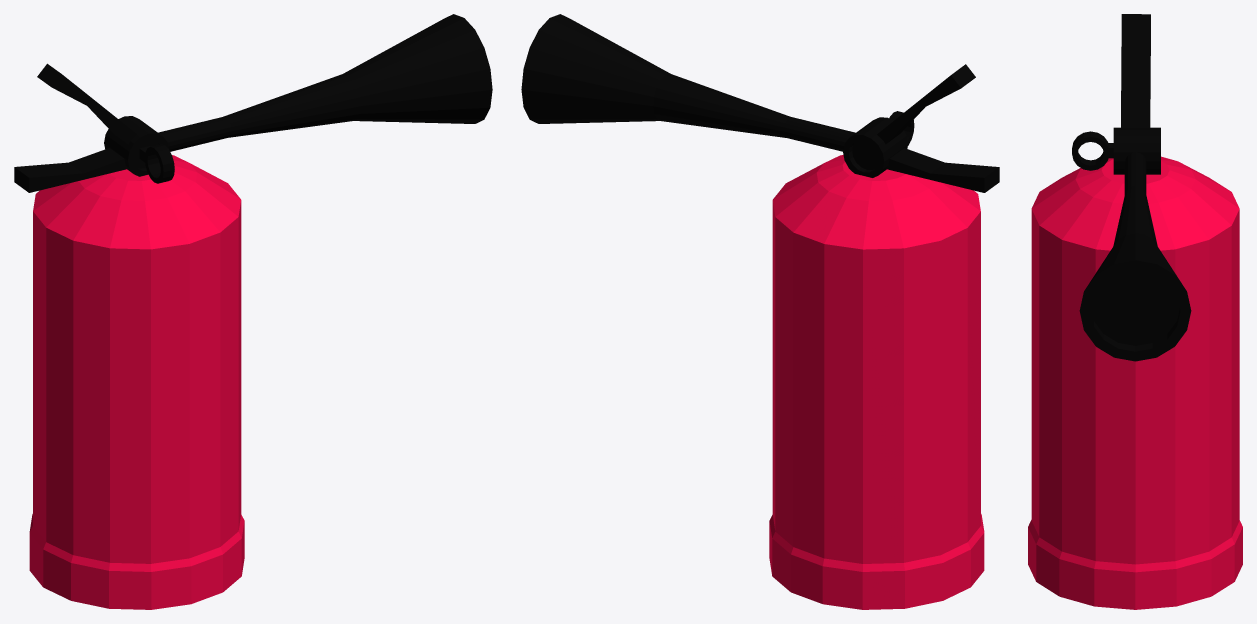
Rendered from APAR.fbx.
3 renders of one model, left to right at view 1: azimuth 30°, elevation 25°; view 2: azimuth 150°, elevation 25°; view 3: azimuth 270°, elevation 25°, orthographic.
Visible parts, largest first — view 1: Main Body, Sprayer, Handle Bot, Ball, Handle Top, Nozel, Key; view 2: Main Body, Sprayer, Handle Bot, Ball, Handle Top, Nozel; view 3: Main Body, Sprayer, Handle Top, Ball, Key, Nozel.
Part boxes in pixels (x1=…): Main Body: x1=29, y1=155, x2=244, y2=609; Sprayer: x1=223, y1=14, x2=492, y2=137; Handle Bot: x1=14, y1=148, x2=127, y2=192; Ball: x1=104, y1=116, x2=168, y2=176; Handle Top: x1=37, y1=63, x2=136, y2=144; Nozel: x1=158, y1=117, x2=231, y2=151; Key: x1=139, y1=144, x2=174, y2=183; Main Body: x1=769, y1=155, x2=984, y2=609; Sprayer: x1=521, y1=14, x2=789, y2=137; Handle Bot: x1=886, y1=148, x2=999, y2=192; Ball: x1=843, y1=117, x2=908, y2=177; Handle Top: x1=877, y1=64, x2=975, y2=144; Nozel: x1=783, y1=116, x2=855, y2=151; Main Body: x1=1028, y1=156, x2=1242, y2=609; Sprayer: x1=1079, y1=185, x2=1191, y2=361; Handle Top: x1=1121, y1=14, x2=1150, y2=127; Ball: x1=1113, y1=127, x2=1160, y2=174; Key: x1=1072, y1=131, x2=1113, y2=170; Nozel: x1=1124, y1=152, x2=1146, y2=194.
Size of the model in its own units: 487 by 542 by 207.
